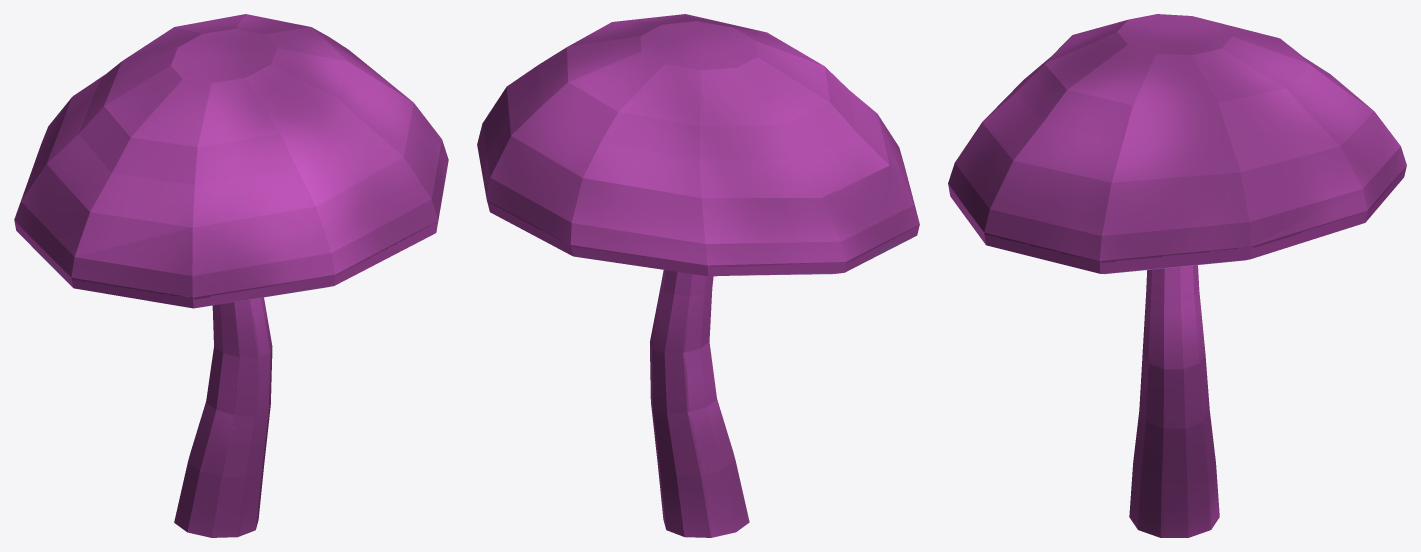
Rendered from mushroom1 1.fbx.
3 renders of one model, left to right at view 1: azimuth 30°, elevation 25°; view 2: azimuth 150°, elevation 25°; view 3: azimuth 270°, elevation 25°, orthographic. The views are drawn at different scales.
Visible parts, largest first — view 1: Cylinder.001; view 2: Cylinder.001; view 3: Cylinder.001.
Part boxes in pixels (<box>): Cylinder.001: <box>14,14,448,537</box>; Cylinder.001: <box>477,14,919,537</box>; Cylinder.001: <box>948,14,1406,537</box>.
Size of the model in its own units: 1454 by 1746 by 1472.
